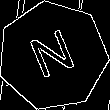N_S: (24, 25, 82, 87)
